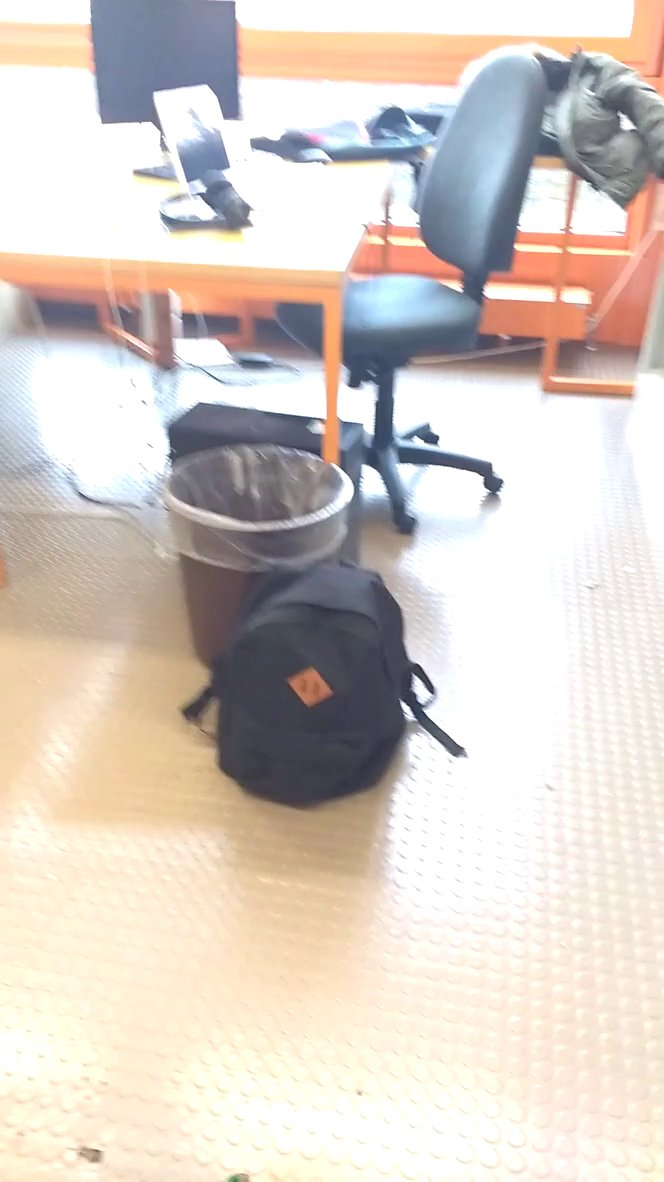bag: (175, 551, 453, 814)
bin: (154, 434, 359, 594)
chair: (274, 30, 563, 511)
laptop: (151, 78, 325, 224)
